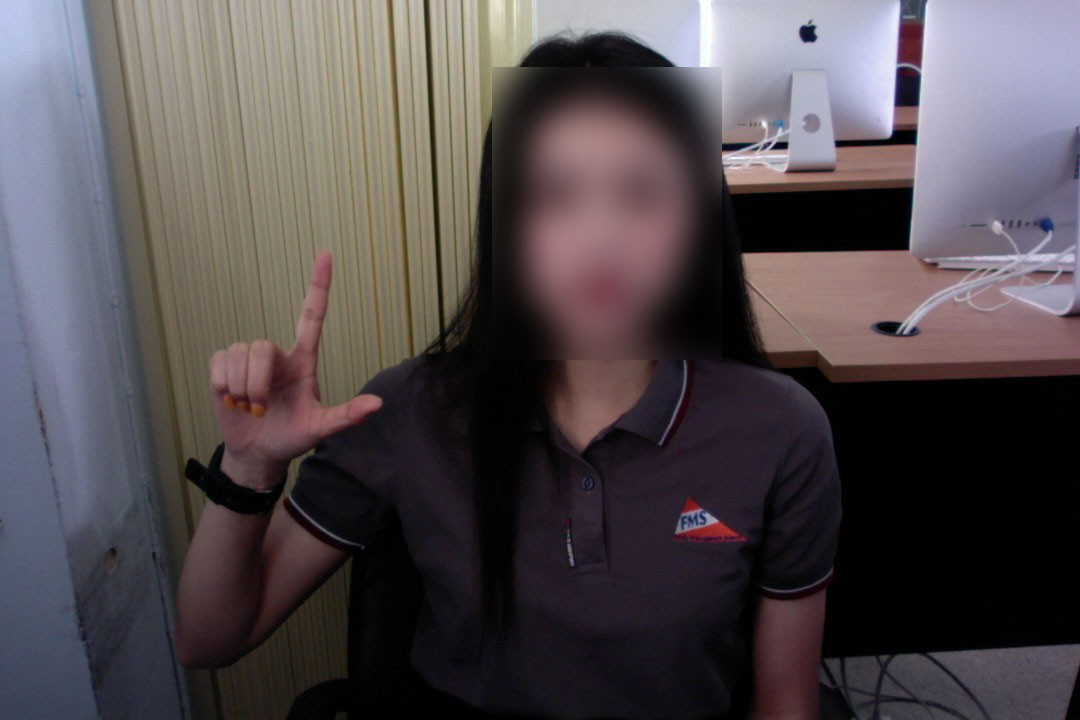lor: (197, 238, 396, 483)
